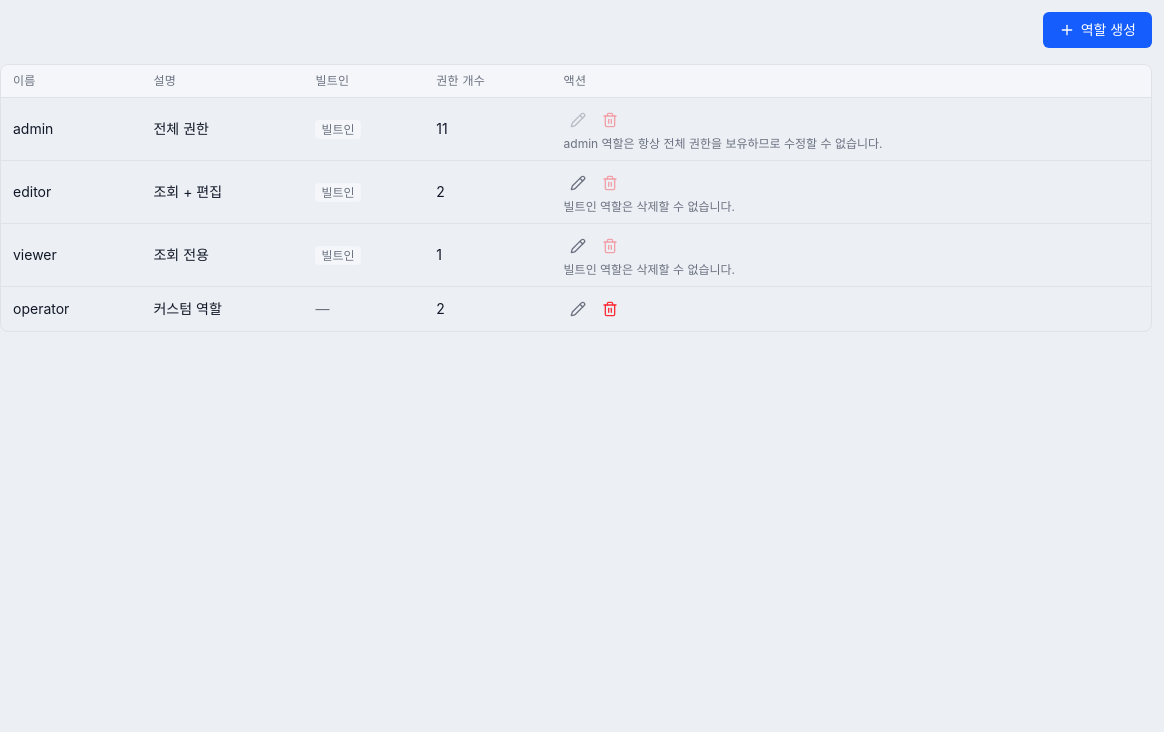
Test case: RolesPanel 권한 행렬 (AC-04) › 카탈로그 조회 실패 시 행렬 대신 안내를 표시한다 (크래시 없음)
Expected: the row with test id "admin-role-row-operator" is shown, [1,286,1151,331]
Click the button "역할 생성": (1097, 30) [1043,12,1152,48]
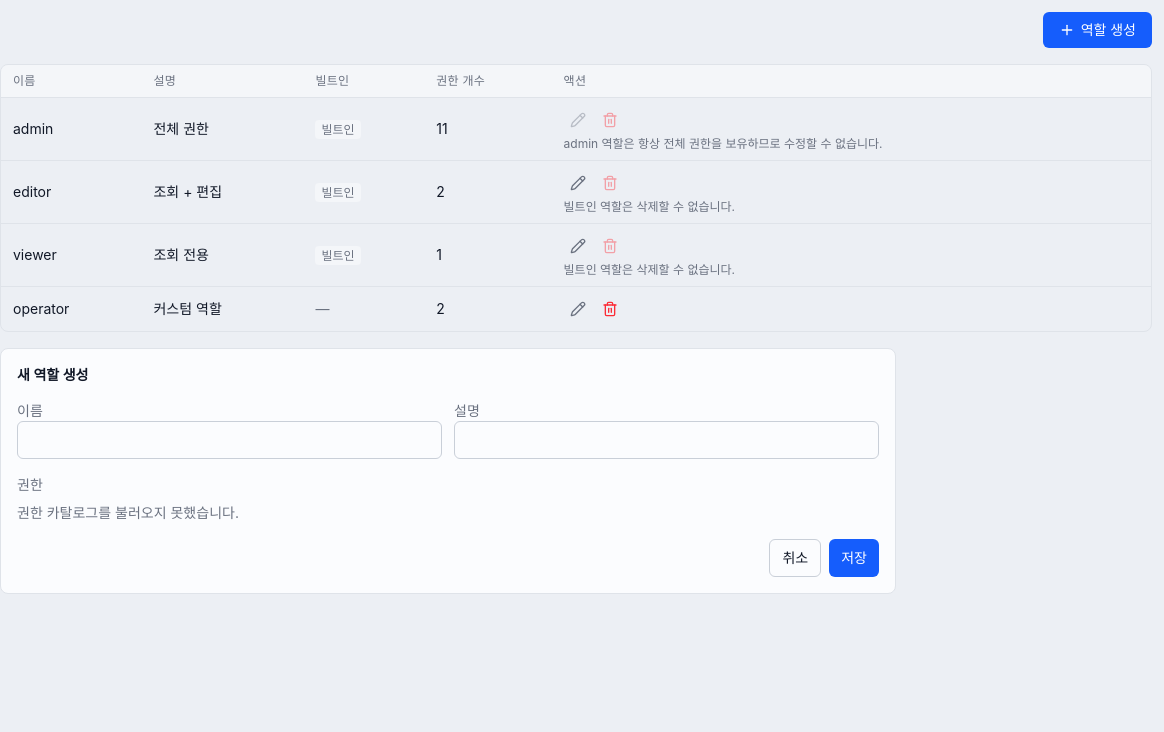
Expected: the text "권한 카탈로그를 불러오지 못했습니다." is shown, [17,504,239,521]
